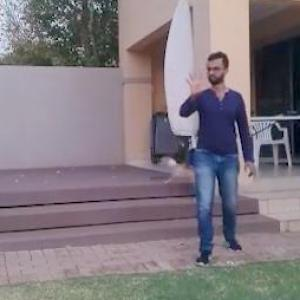follow_hand: (179, 62, 214, 100)
